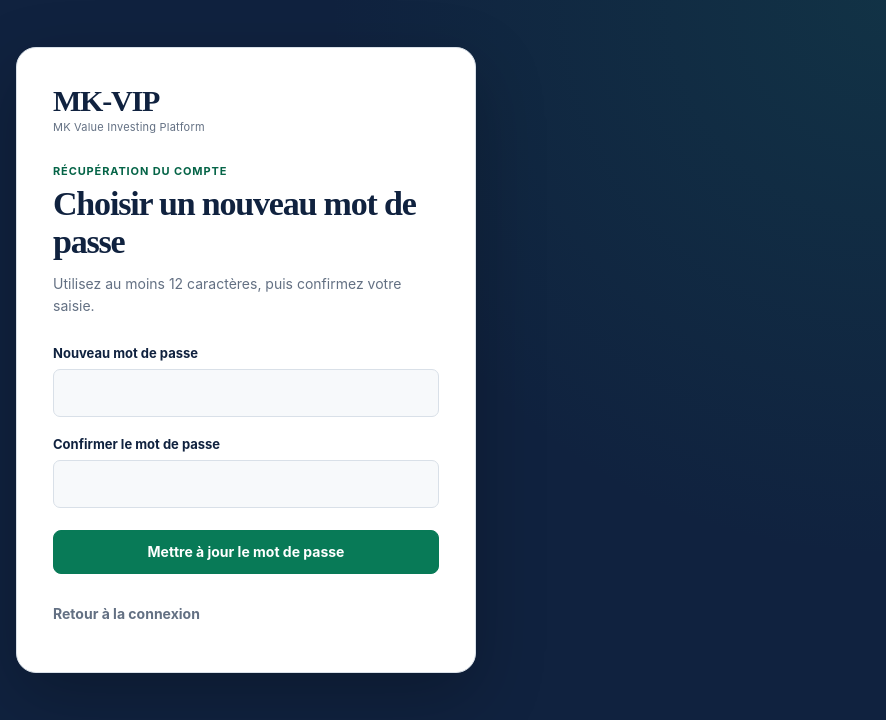
MK-VIP authentication › lets the user leave an invalid password-reset link
The width and height of the screenshot is (886, 720).
In the password field labelled "Nouveau mot de passe": (246, 393) x1=53 y1=369 x2=439 y2=417, type "correct horse battery"
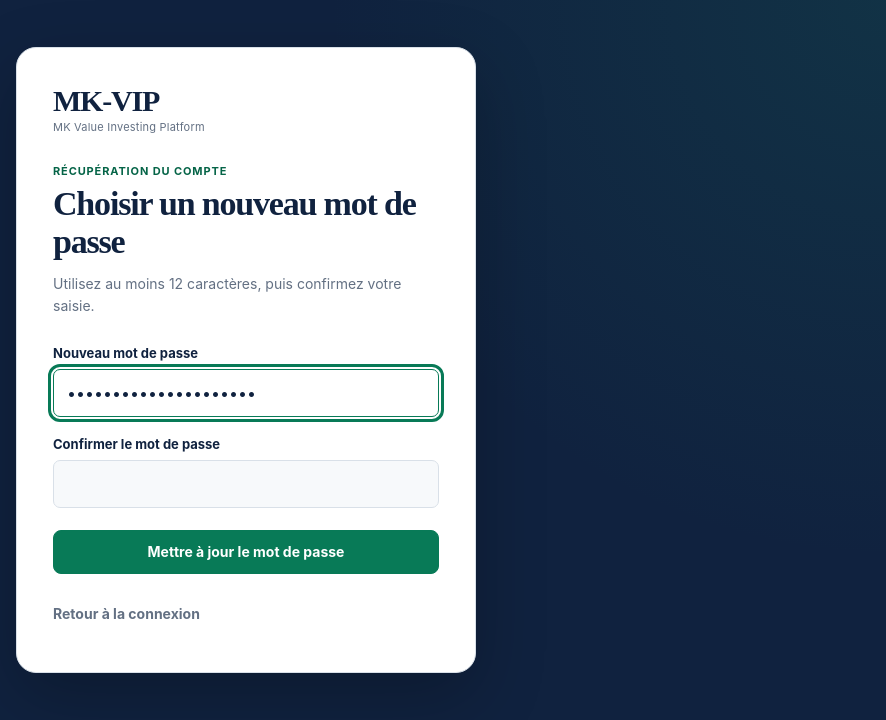
In the password field labelled "Confirmer le mot de passe": (246, 484) x1=53 y1=460 x2=439 y2=508, type "correct horse battery"
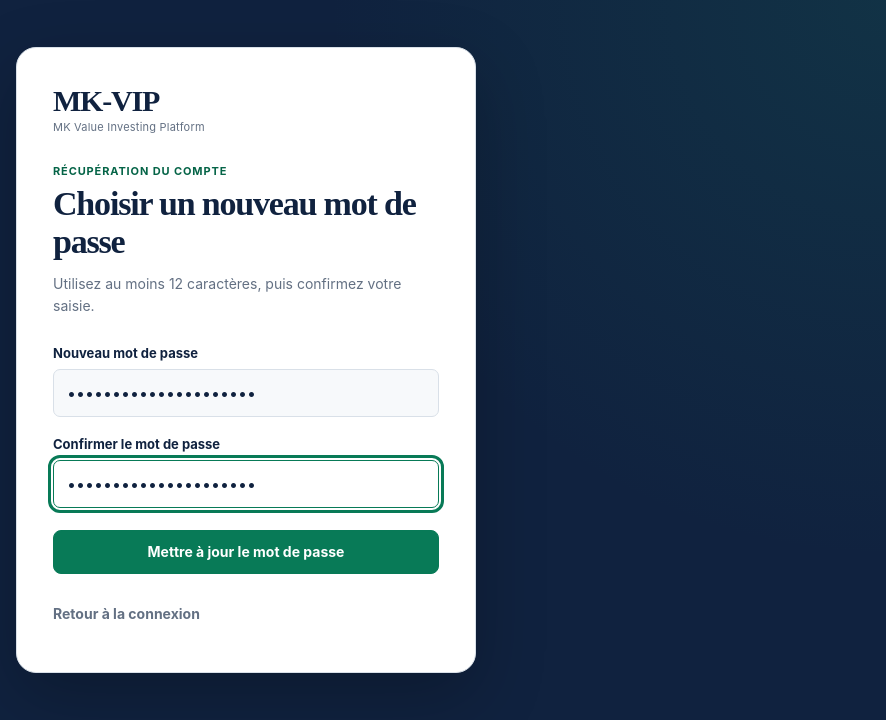
Click the button "Mettre à jour le mot de passe": (246, 552) x1=53 y1=530 x2=439 y2=574
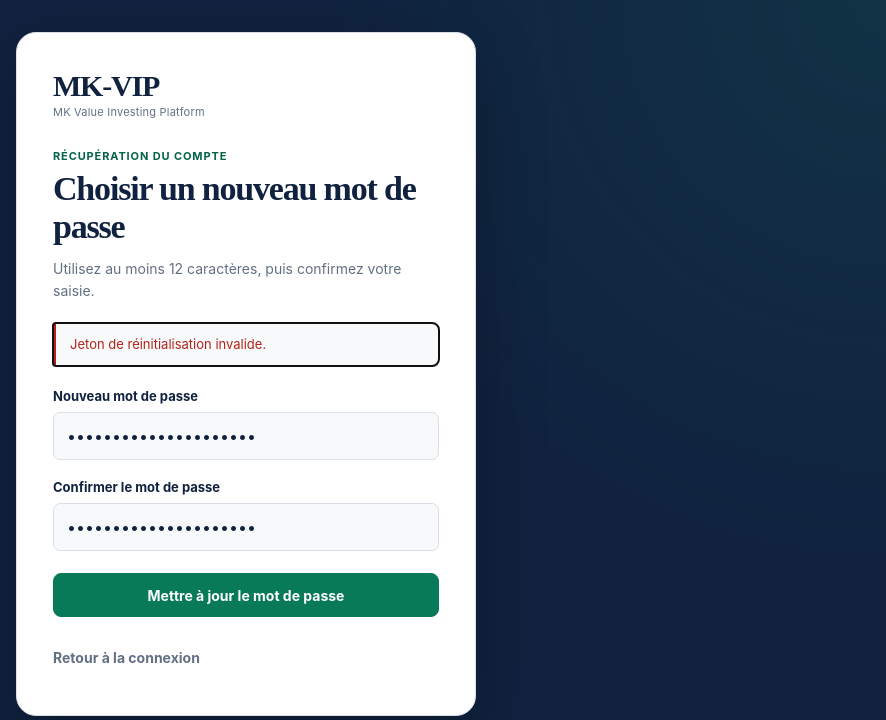
Now the message reads "Jeton de réinitialisation invalide.", box x1=70 y1=336 x2=266 y2=352
Click the button "Retour à la connexion": (126, 657) x1=53 y1=635 x2=200 y2=679
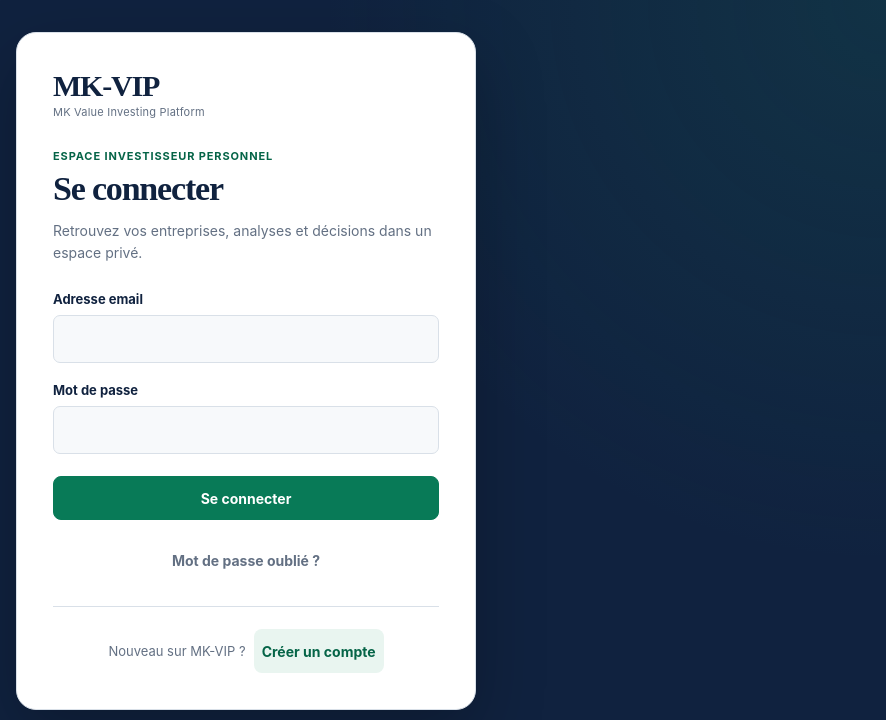
Now the heading "Se connecter" is shown, box x1=53 y1=170 x2=223 y2=207
